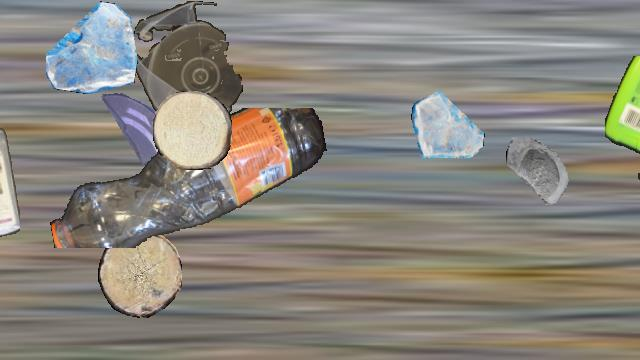glass: (46, 1, 138, 93), (97, 89, 181, 173), (505, 137, 581, 213), (411, 88, 485, 162)
metal: (0, 241, 18, 303)
plastic: (45, 108, 329, 248), (132, 1, 244, 133), (605, 56, 640, 188), (0, 124, 19, 236)
wood: (98, 232, 182, 318), (153, 91, 231, 169)
